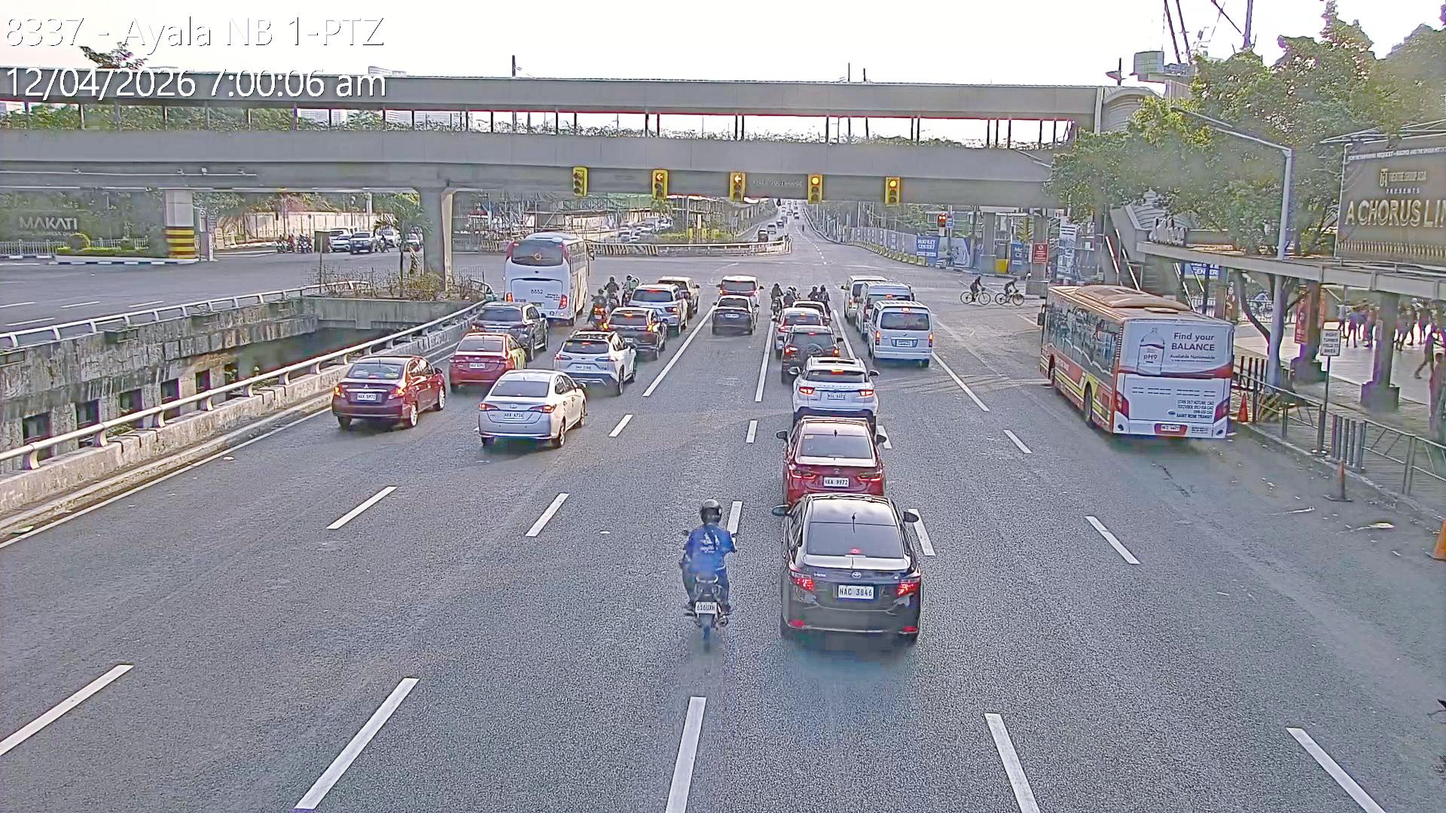Car: (769, 490, 930, 658), (476, 368, 591, 451), (781, 421, 886, 507), (331, 356, 449, 432), (790, 365, 879, 430), (553, 327, 638, 392), (448, 330, 532, 393), (471, 300, 549, 361), (866, 300, 933, 367), (777, 321, 843, 379), (606, 304, 670, 360), (625, 283, 687, 339), (860, 282, 915, 333), (843, 273, 889, 326), (709, 290, 754, 335), (785, 299, 830, 329), (349, 231, 380, 254), (330, 225, 358, 246), (376, 228, 401, 249), (330, 233, 355, 253), (404, 232, 423, 250)
Motor: (676, 500, 744, 656), (587, 287, 610, 332), (602, 274, 622, 308), (816, 285, 833, 317), (622, 273, 640, 303), (767, 280, 781, 317), (378, 233, 390, 254), (285, 233, 296, 254), (302, 233, 313, 254), (276, 234, 286, 254), (296, 233, 305, 253)
Not Accident: (779, 363, 923, 653), (480, 326, 636, 454), (448, 292, 550, 390), (840, 277, 934, 369), (764, 273, 842, 367), (618, 275, 699, 356), (708, 277, 757, 343)
